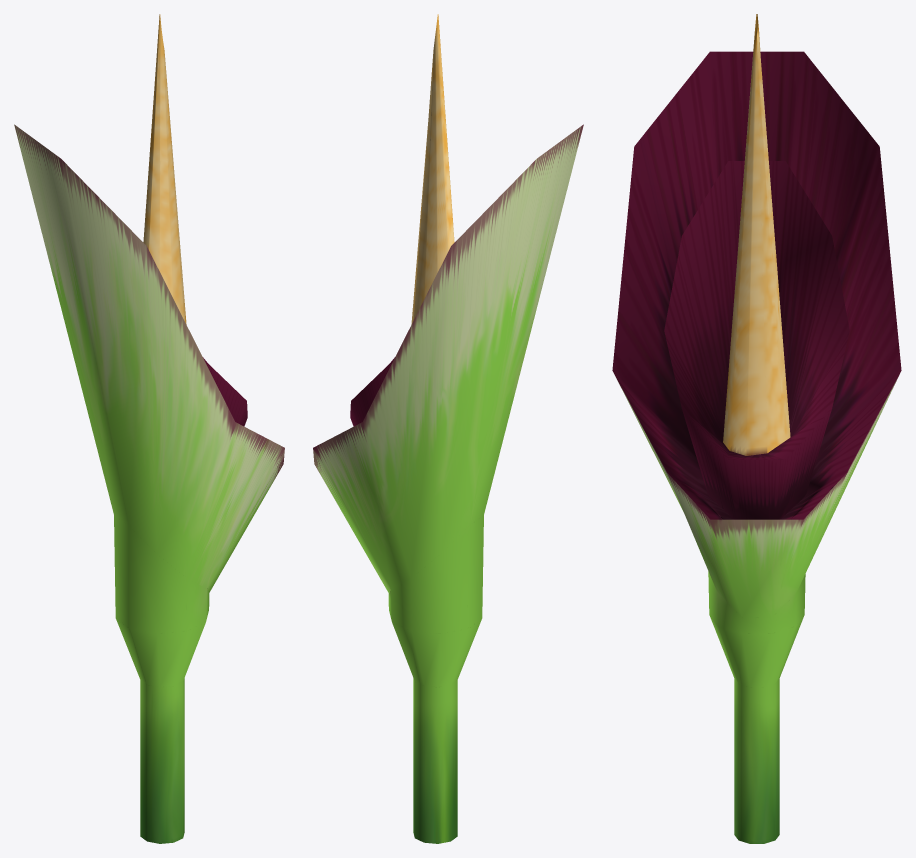
Rendered from Pohon 3.fbx.
3 renders of one model, left to right at view 1: azimuth 30°, elevation 25°; view 2: azimuth 150°, elevation 25°; view 3: azimuth 270°, elevation 25°, orthographic.
Visible parts, largest first — view 1: Cylinder; view 2: Cylinder; view 3: Cylinder.
Part boxes in pixels (left/top/right/bottom): Cylinder: left=14, top=14, right=284, bottom=843; Cylinder: left=313, top=14, right=583, bottom=843; Cylinder: left=612, top=14, right=901, bottom=843.
Size of the model in its own units: 300 by 1057 by 338.
